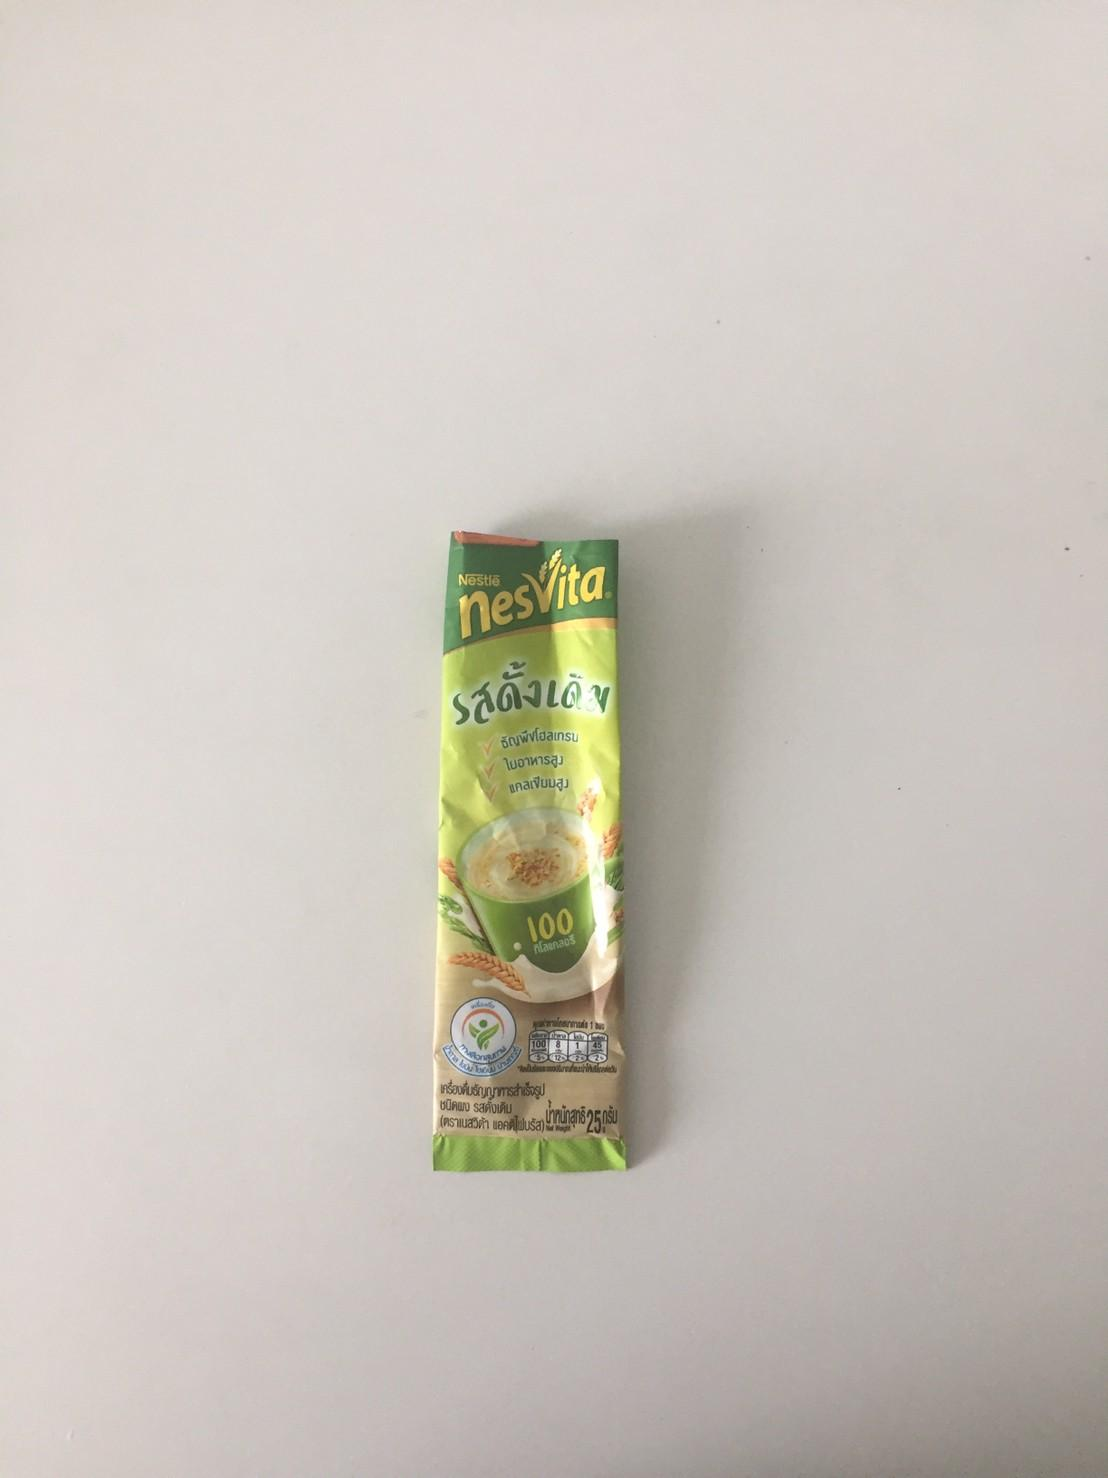plastic: (413, 514, 652, 1194)
